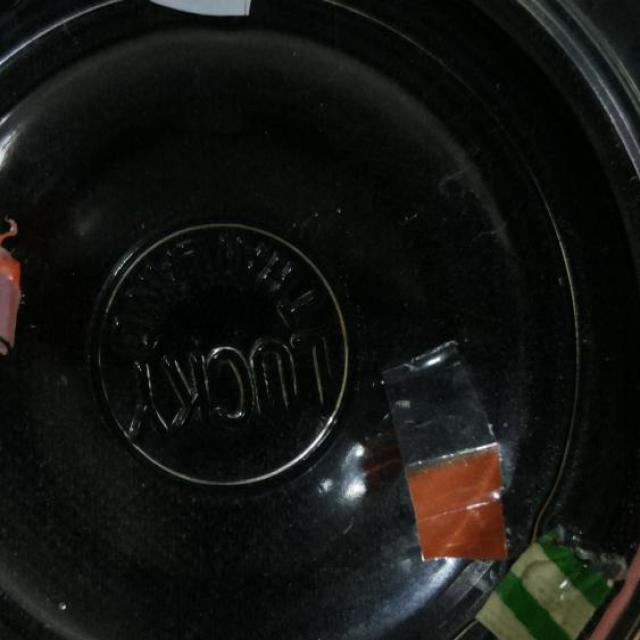fiber: (480, 531, 628, 639), (399, 444, 516, 574), (0, 210, 23, 356)
